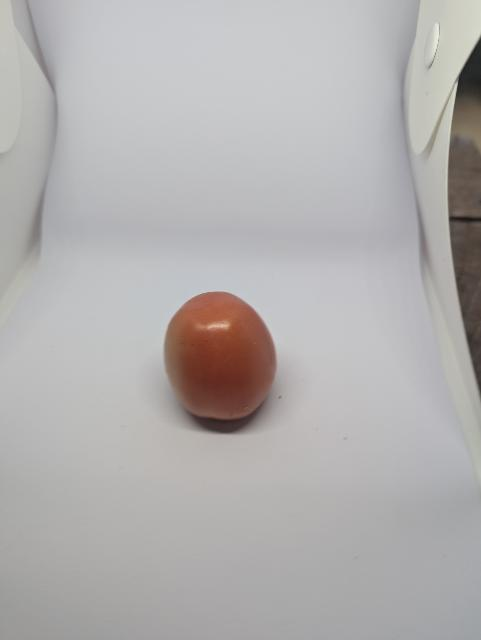red: (146, 285, 311, 453)
